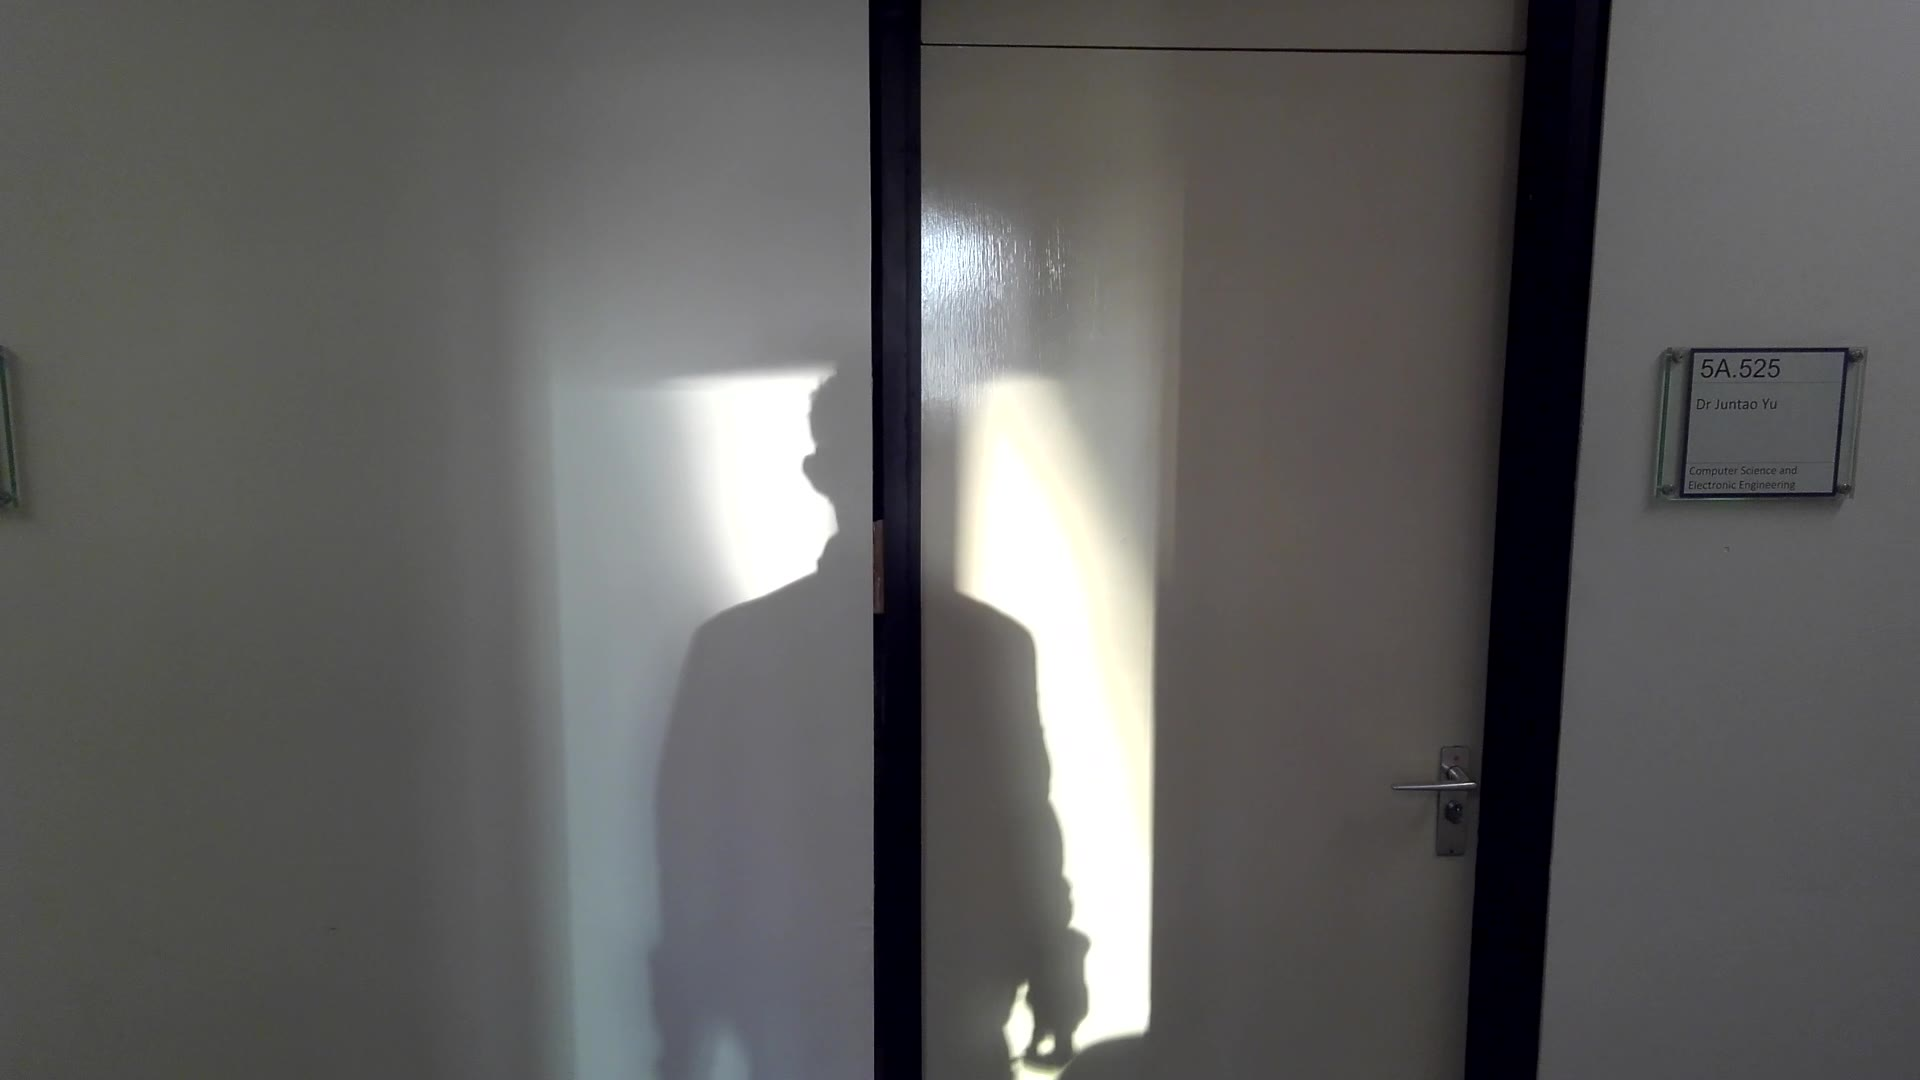Door: (837, 22, 1614, 1080)
